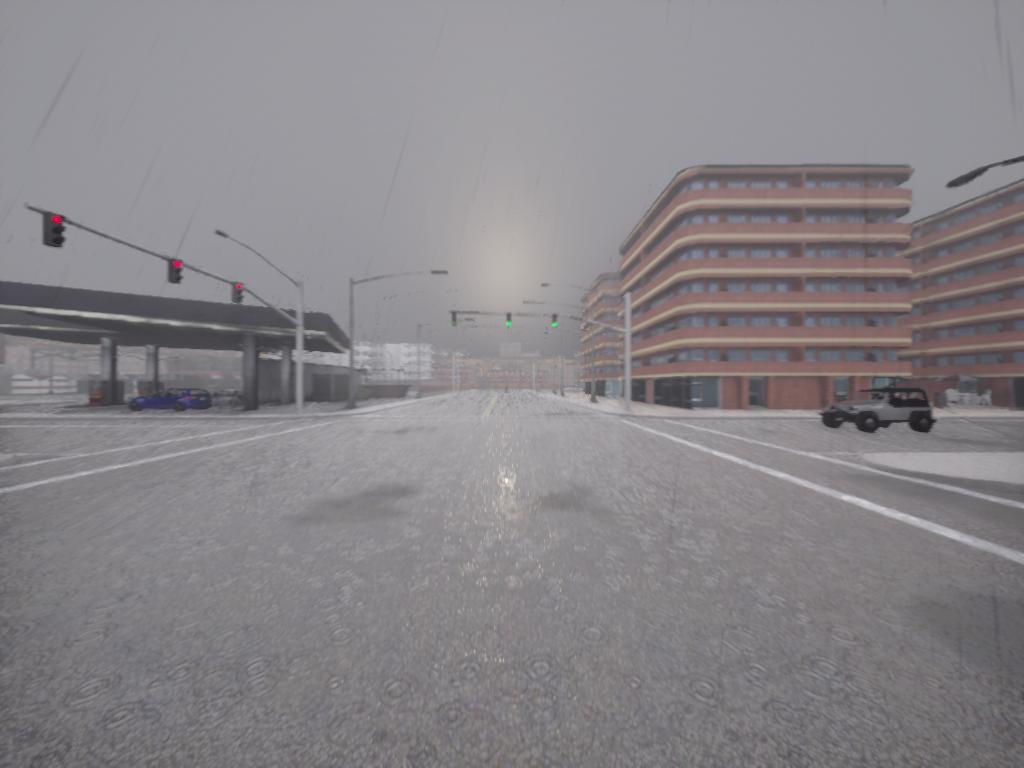traffic_light: (45, 213, 66, 248), (168, 261, 185, 285), (231, 283, 243, 305), (550, 317, 559, 331), (505, 315, 513, 330), (452, 312, 459, 326)
